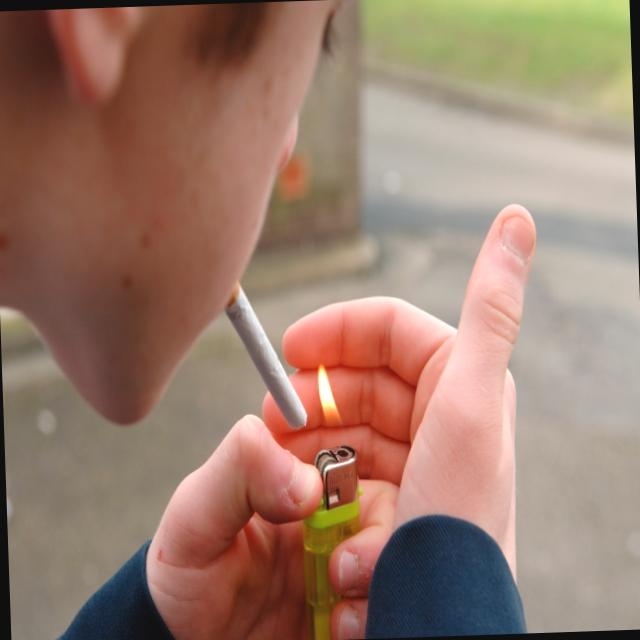cigarette: (220, 274, 312, 441)
